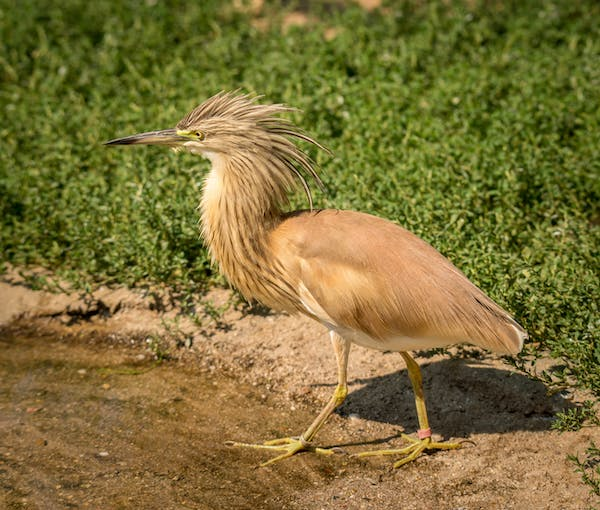Walking: (97, 65, 549, 488)
